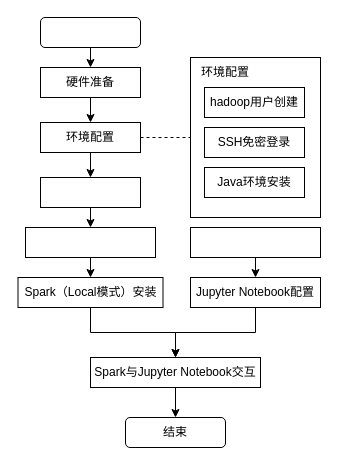
Image size: 338x465. Some labels were removed from this diagram. The box of each missing label's shape, as (x1, y1, x2, y2) in pixels:
Anaconda安装: (190, 226, 320, 258)
Hadoop伪分布式配置: (24, 226, 156, 258)
安装Hadoop: (40, 176, 140, 208)
开始: (40, 16, 140, 48)
